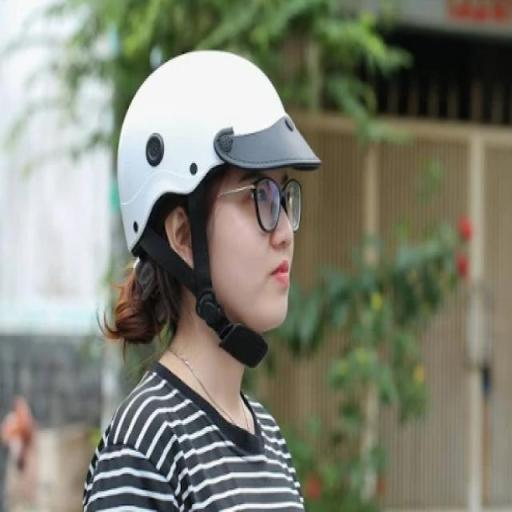with helmet: (116, 50, 325, 260)
